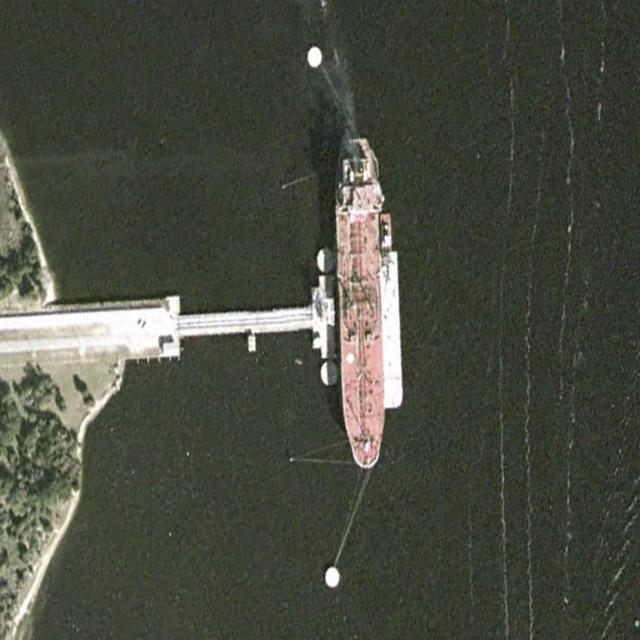Oil Tanker: (332, 133, 387, 469)
